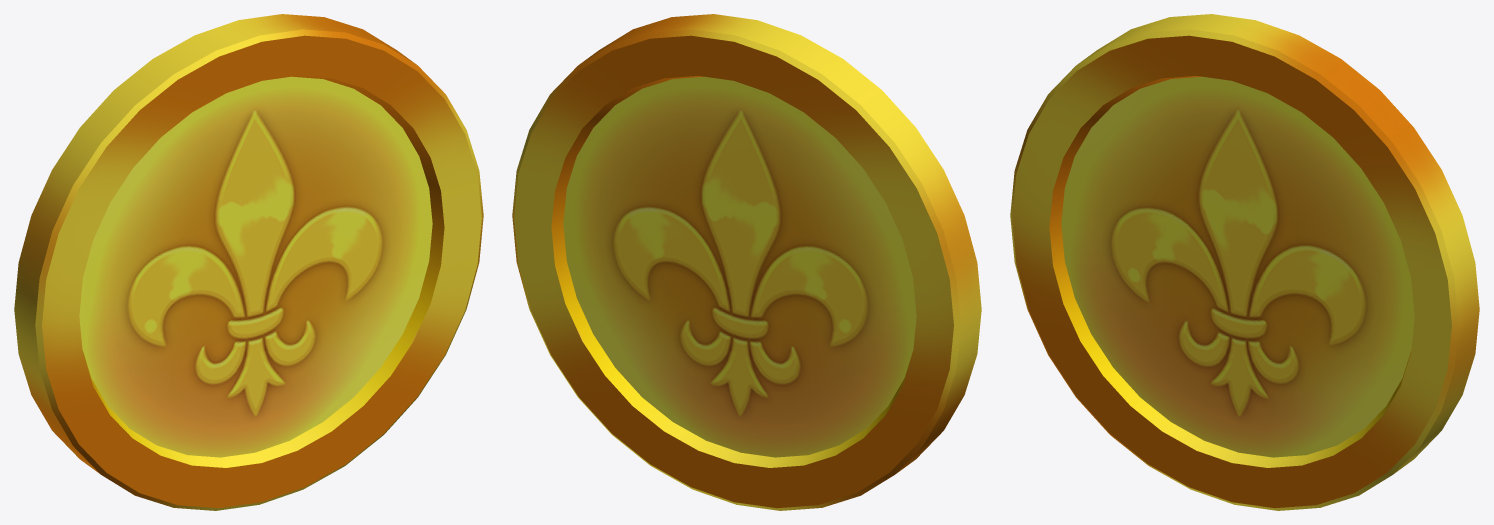
The model's file is coin.glb.
3 renders of one model, left to right at view 1: azimuth 30°, elevation 25°; view 2: azimuth 150°, elevation 25°; view 3: azimuth 330°, elevation 25°, orthographic.
Visible parts, largest first — view 1: Coin; view 2: Coin; view 3: Coin.
Part boxes in pixels (bbox=[...]): Coin: bbox=[14, 14, 483, 510]; Coin: bbox=[512, 14, 981, 510]; Coin: bbox=[1010, 14, 1479, 510].
Size of the model in its own units: 2 by 2 by 0.2.
1 material, 1 textured.
